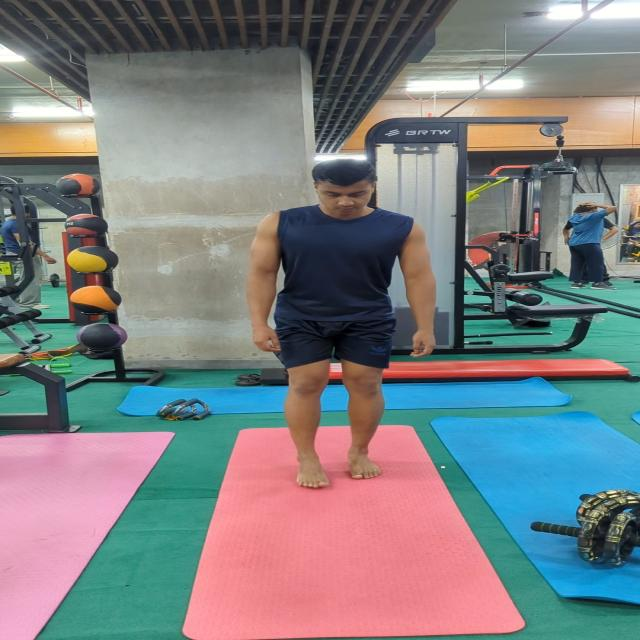Normal_Lunges: (241, 154, 439, 493)
